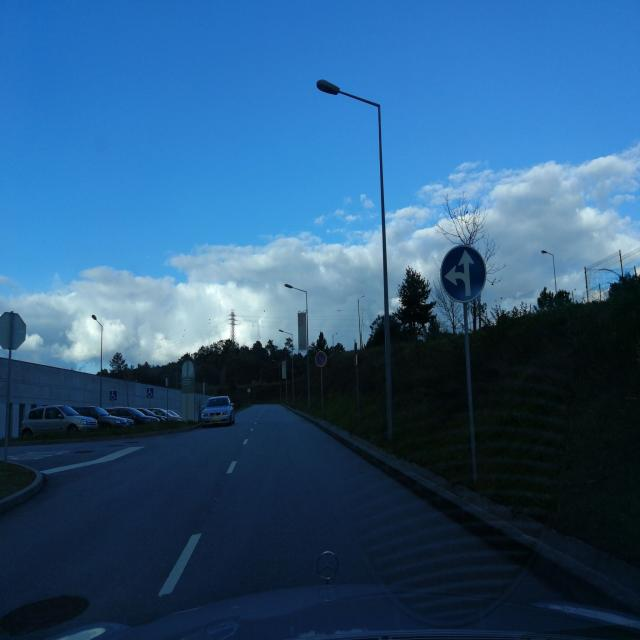forb_stopping: (315, 349, 328, 368)
